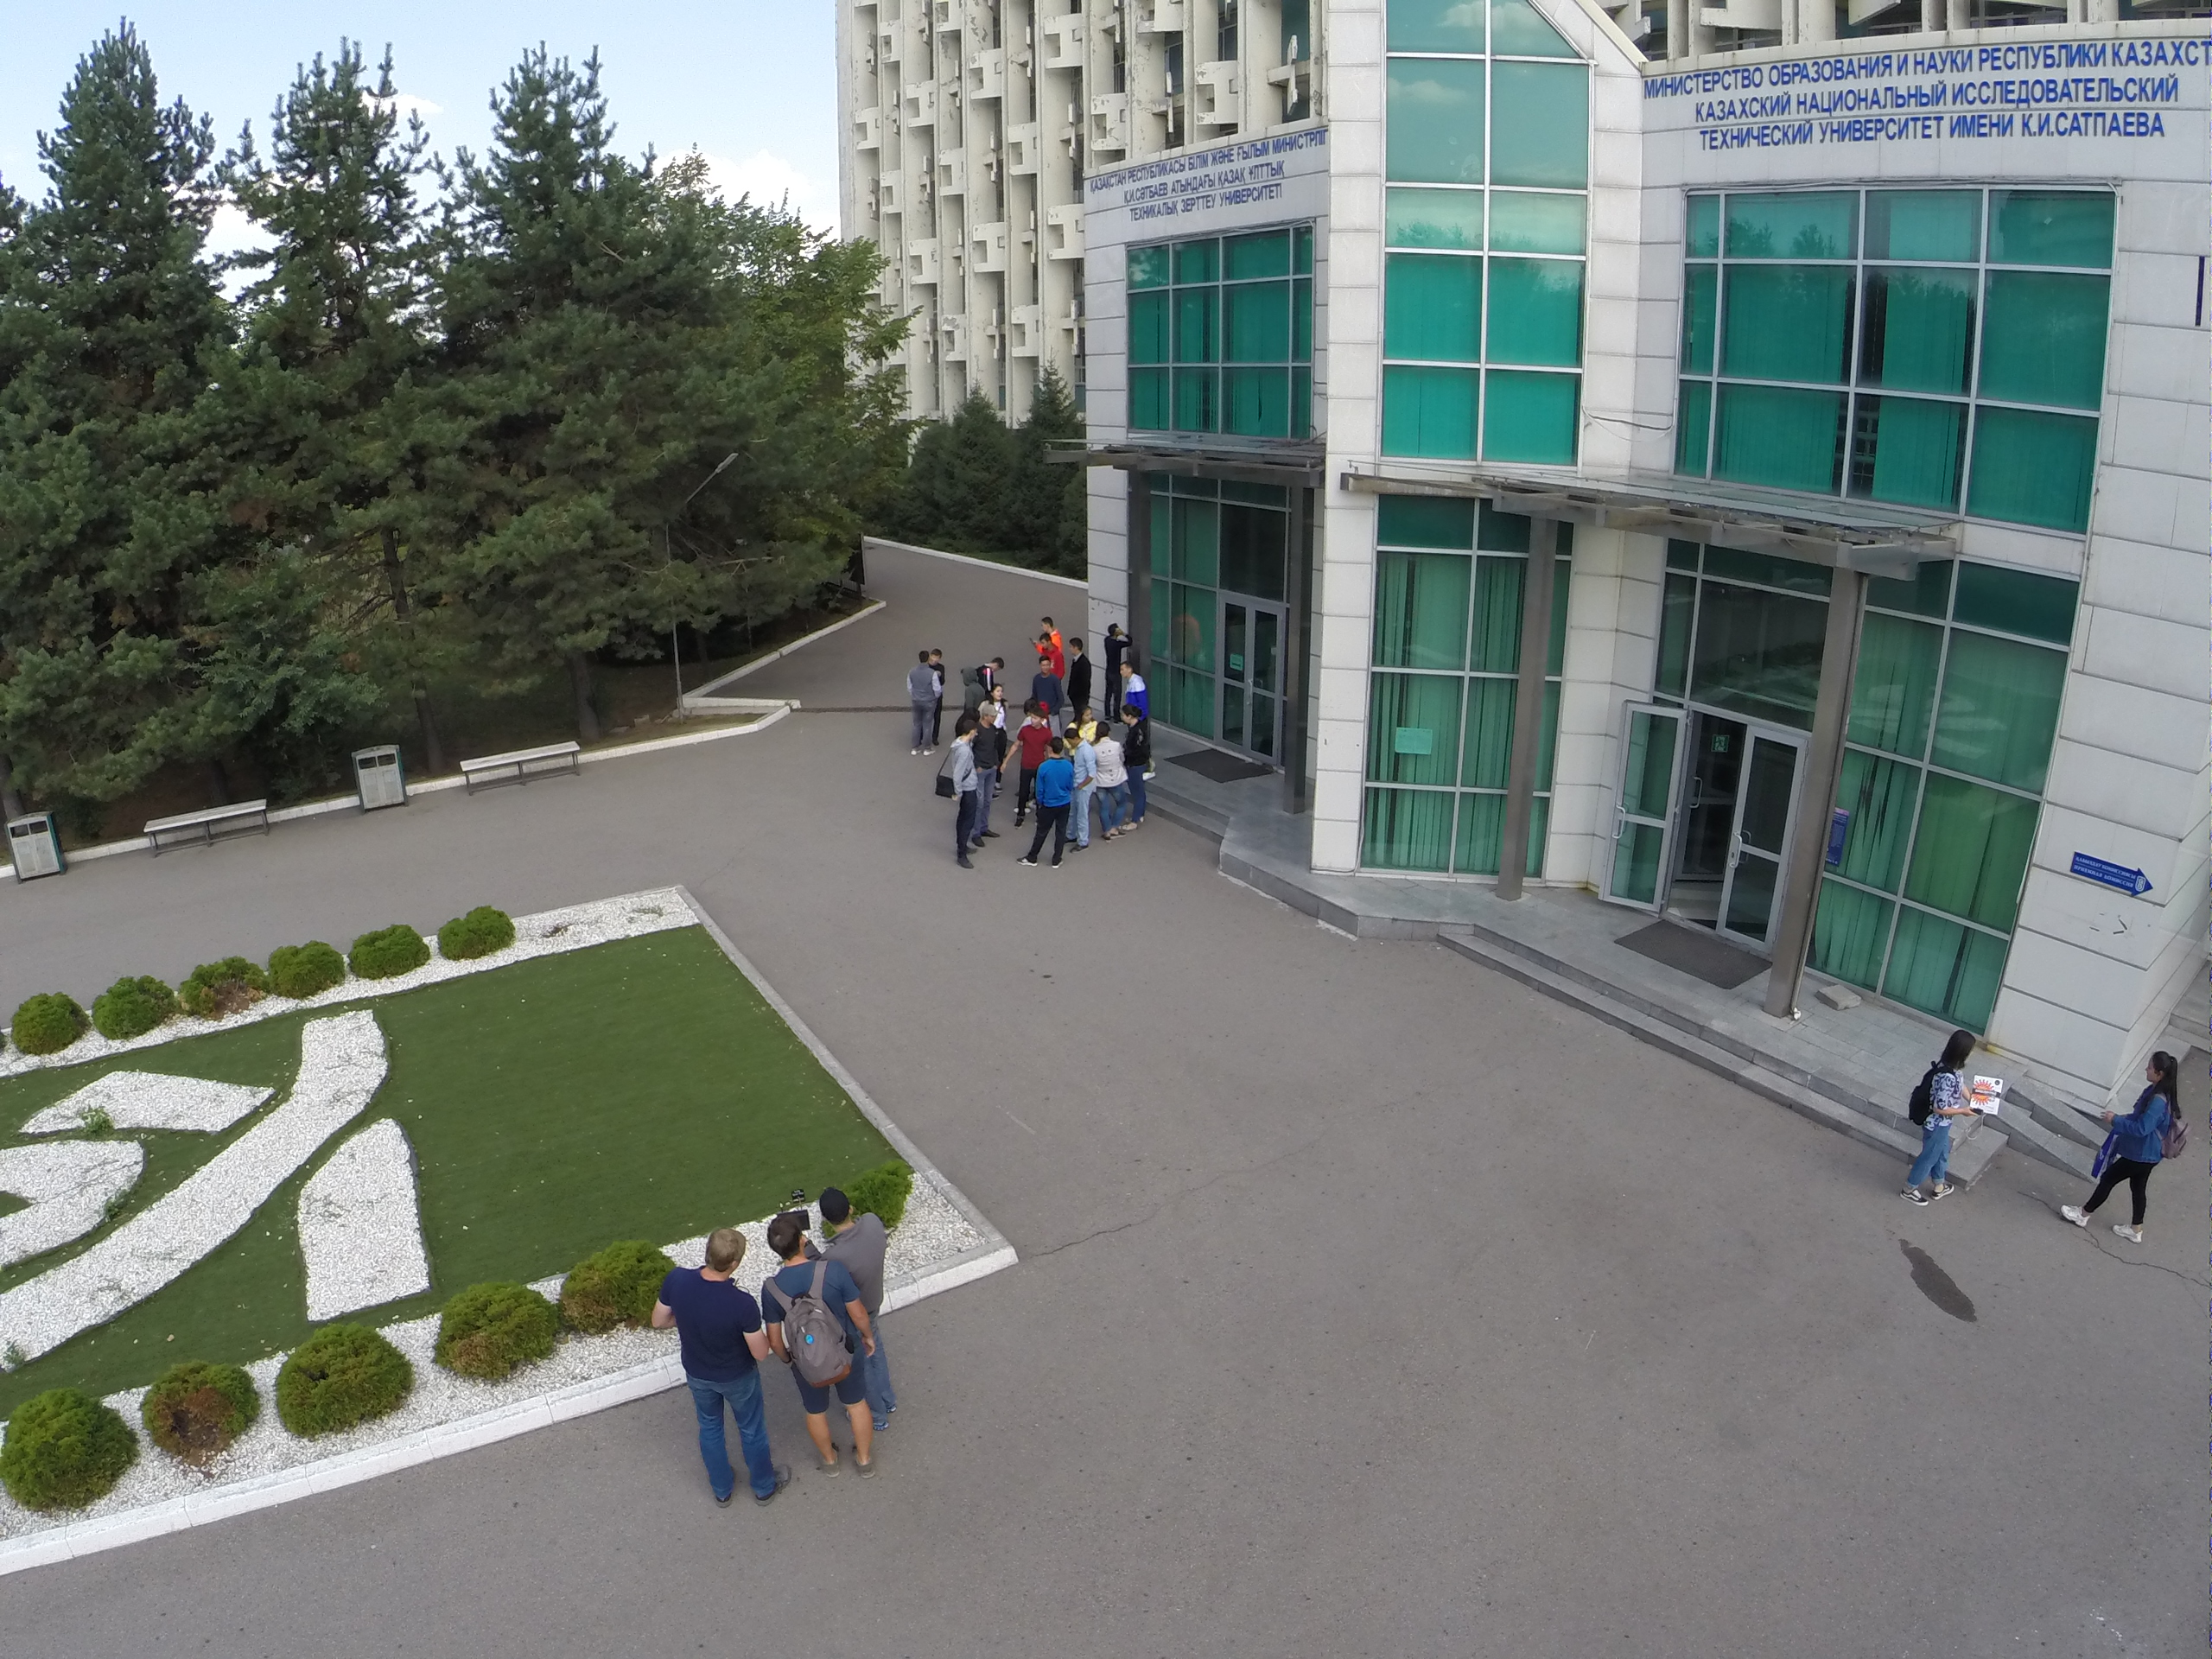person: (648, 1224, 795, 1505), (748, 1223, 876, 1484), (2063, 1050, 2189, 1252), (813, 1179, 900, 1421), (1895, 1027, 2005, 1210), (938, 725, 981, 870), (1002, 708, 1050, 832), (1027, 738, 1070, 870), (969, 706, 1007, 844), (1089, 725, 1129, 842), (1117, 703, 1152, 835), (905, 646, 941, 760), (1066, 727, 1090, 847), (1067, 639, 1093, 706), (1103, 620, 1124, 705), (1030, 656, 1058, 705), (1121, 660, 1148, 707), (984, 687, 1013, 711), (1034, 634, 1058, 656)
